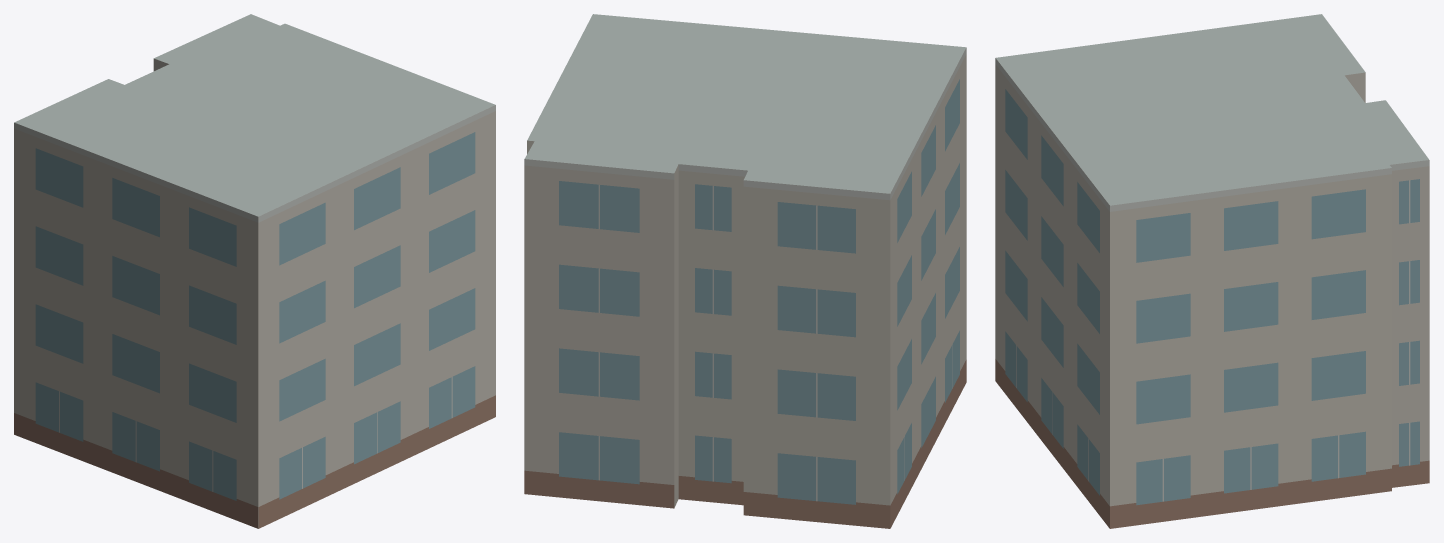
File: survey-upis-32749599.glb
3 views of the same model, side by side, from view 1: azimuth 30°, elevation 25°; view 2: azimuth 150°, elevation 25°; view 3: azimuth 270°, elevation 25° (orthographic). The views are drawn at different scales.
Parts seen in each view (by area): view 1: survey-upis-32749599.tmp; view 2: survey-upis-32749599.tmp; view 3: survey-upis-32749599.tmp.
Boxes of the visible parts, x1=… form: survey-upis-32749599.tmp: x1=14, y1=14, x2=495, y2=528; survey-upis-32749599.tmp: x1=524, y1=14, x2=966, y2=528; survey-upis-32749599.tmp: x1=995, y1=14, x2=1429, y2=528.
Size of the model in its own units: 16.11 by 12.65 by 15.42.
